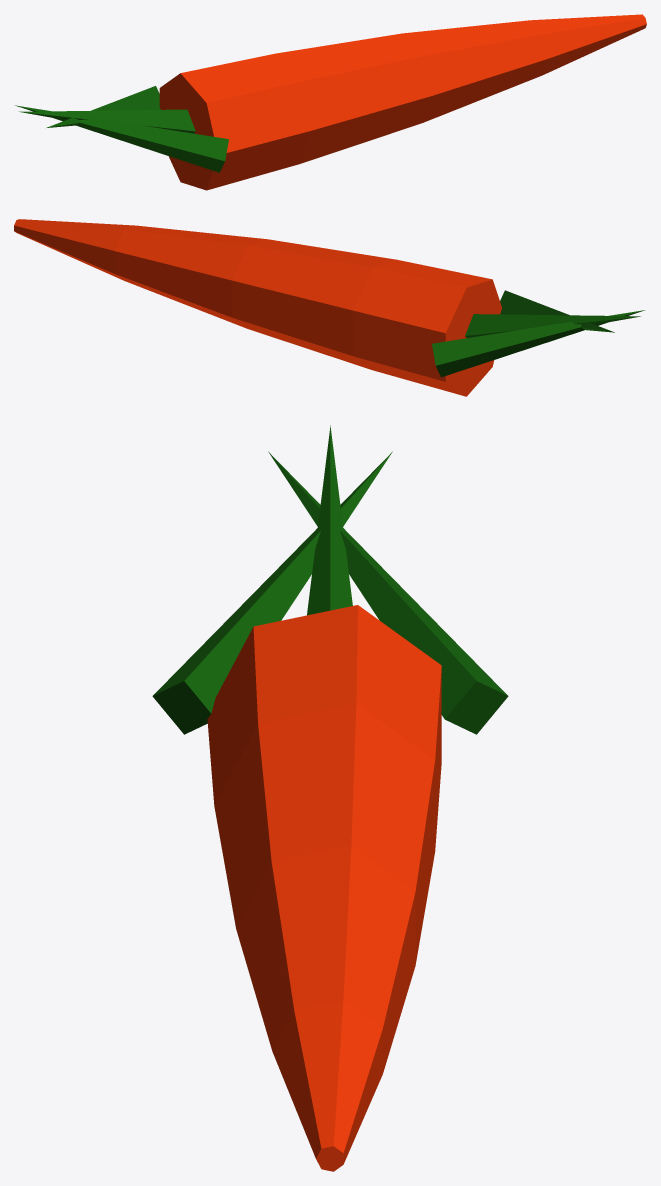
File: carrot.obj
3 renders of one model, top to bottom at view 1: azimuth 30°, elevation 25°; view 2: azimuth 150°, elevation 25°; view 3: azimuth 270°, elevation 25°, orthographic. The views are drawn at different scales.
Visible parts, largest first — view 1: carrot; view 2: carrot; view 3: carrot.
Part boxes in pixels (<box>): carrot: <box>15,14,646,190</box>; carrot: <box>14,219,645,396</box>; carrot: <box>152,425,508,1171</box>.
Size of the model in its own units: 0.1987 by 0.0354 by 0.049.
